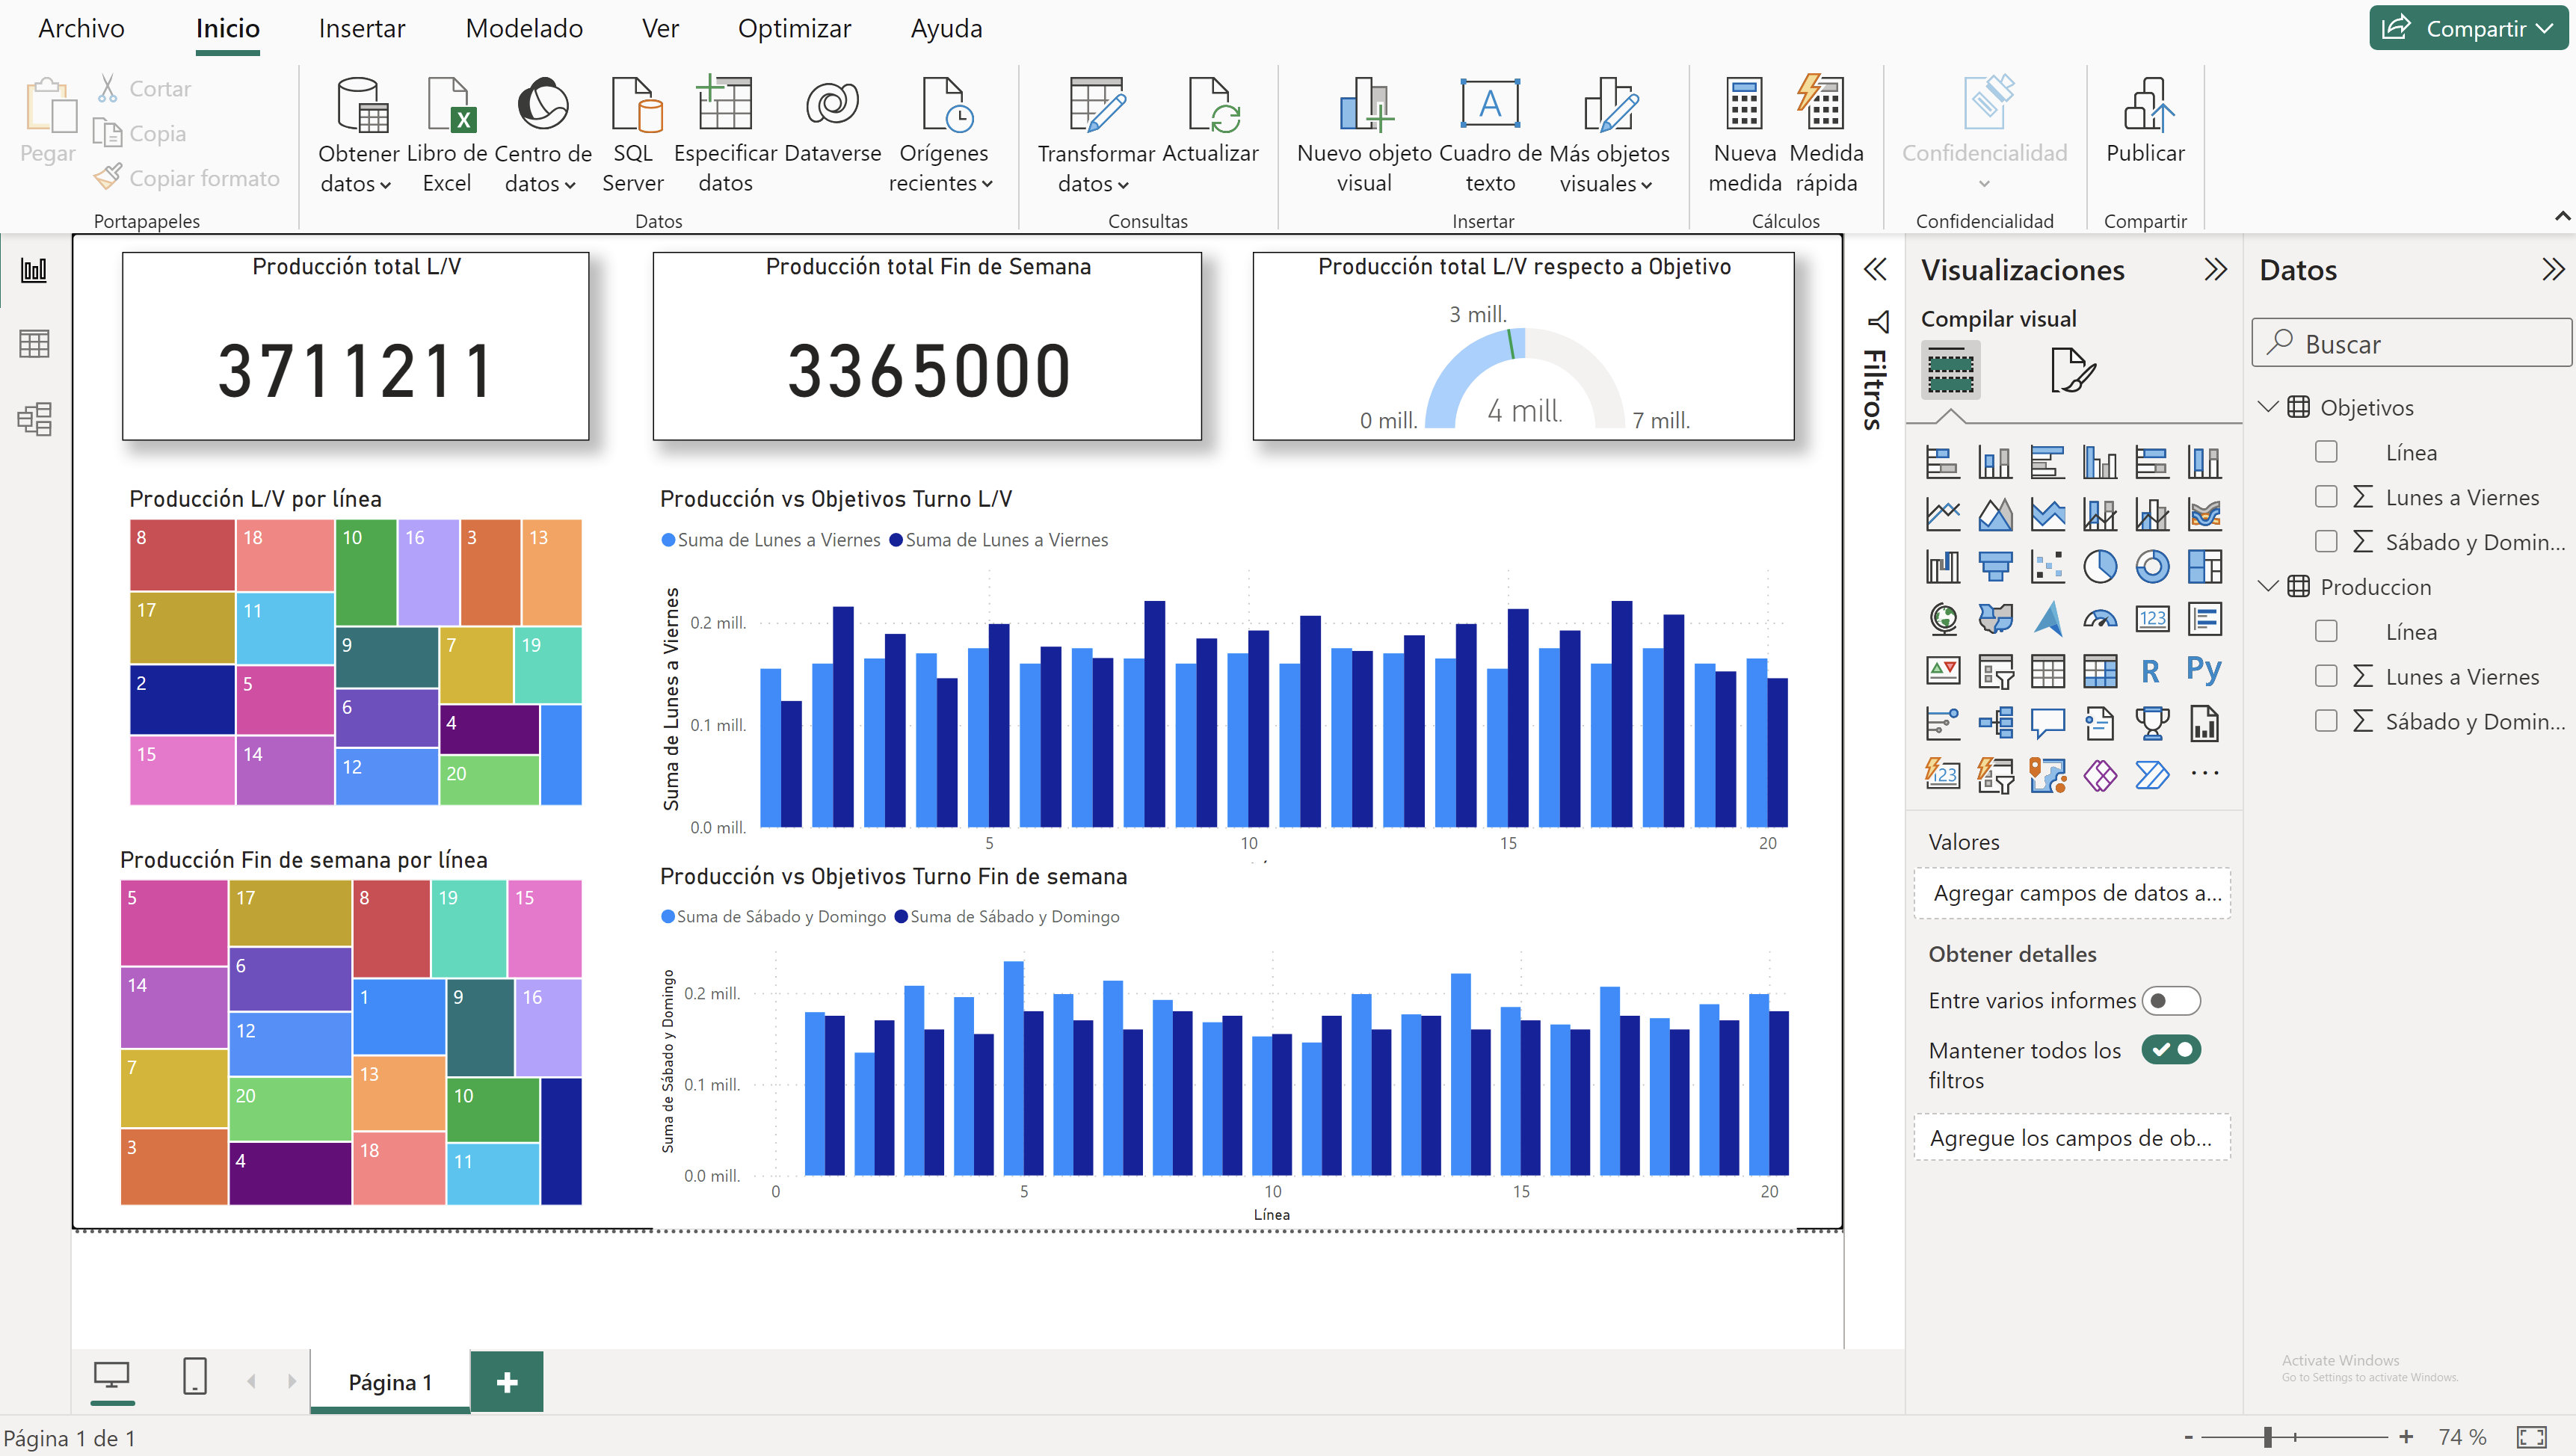

The page's visual inventory and layout, read from the dashboard file:
{"tool":"powerbi","page":{"name":"Página 1","canvas":[1920,1080],"ordinal":0},"visuals":[{"type":"treemap","title":"Producción Fin de semana por línea","fields":{"Group":["Produccion.Línea"],"Values":["Sum(Produccion.Sábado y Domingo)"]},"box":[27.7,643.4,592.3,407.1],"z":0},{"type":"treemap","title":"Producción L/V por línea","fields":{"Group":["Produccion.Línea"],"Values":["Sum(Produccion.Lunes a Viernes)"]},"box":[23.3,186.7,592.3,407.1],"z":1000},{"type":"clusteredColumnChart","title":"Producción vs Objetivos Turno Fin de semana","fields":{"Category":["Produccion.Línea"],"Y":["Sum(Produccion.Sábado y Domingo)","Sum(Objetivos.Sábado y Domingo)"]},"box":[690.3,643.7,1201,407],"z":2000},{"type":"clusteredColumnChart","title":"Producción vs Objetivos Turno L/V","fields":{"Category":["Produccion.Línea"],"Y":["Sum(Produccion.Lunes a Viernes)","Sum(Objetivos.Lunes a Viernes)"]},"box":[690.1,186.7,1200.7,407.1],"z":3000},{"type":"card","title":"Producción total Fin de semana","fields":{"Values":["Sum(Produccion.Sábado y Domingo)"]},"box":[663.8,0,592.3,134.2],"z":4000},{"type":"gauge","title":"Producción total L/V","fields":{"Y":["Sum(Produccion.Lunes a Viernes)"],"TargetValue":["Sum(Objetivos.Lunes a Viernes)"]},"box":[1298.5,0,592.3,134.2],"z":5000},{"type":"card","title":"Producción total L/V","fields":{"Values":["Sum(Produccion.Lunes a Viernes)"]},"box":[22.6,0,591.9,133],"z":5001}]}

Visuals, with their boxes on the page's 1920x1080 design canvas (x1, y1, x2, y2). These are canvas units, not pixel positions in the 2576x1456 screenshot, which may show the page scaled, cropped or inside an application window:
"Producción Fin de semana por línea" treemap: 28,643,620,1050
"Producción L/V por línea" treemap: 23,187,616,594
"Producción vs Objetivos Turno Fin de semana" clusteredColumnChart: 690,644,1891,1051
"Producción vs Objetivos Turno L/V" clusteredColumnChart: 690,187,1891,594
"Producción total Fin de semana" card: 664,0,1256,134
"Producción total L/V" gauge: 1298,0,1891,134
"Producción total L/V" card: 23,0,614,133
